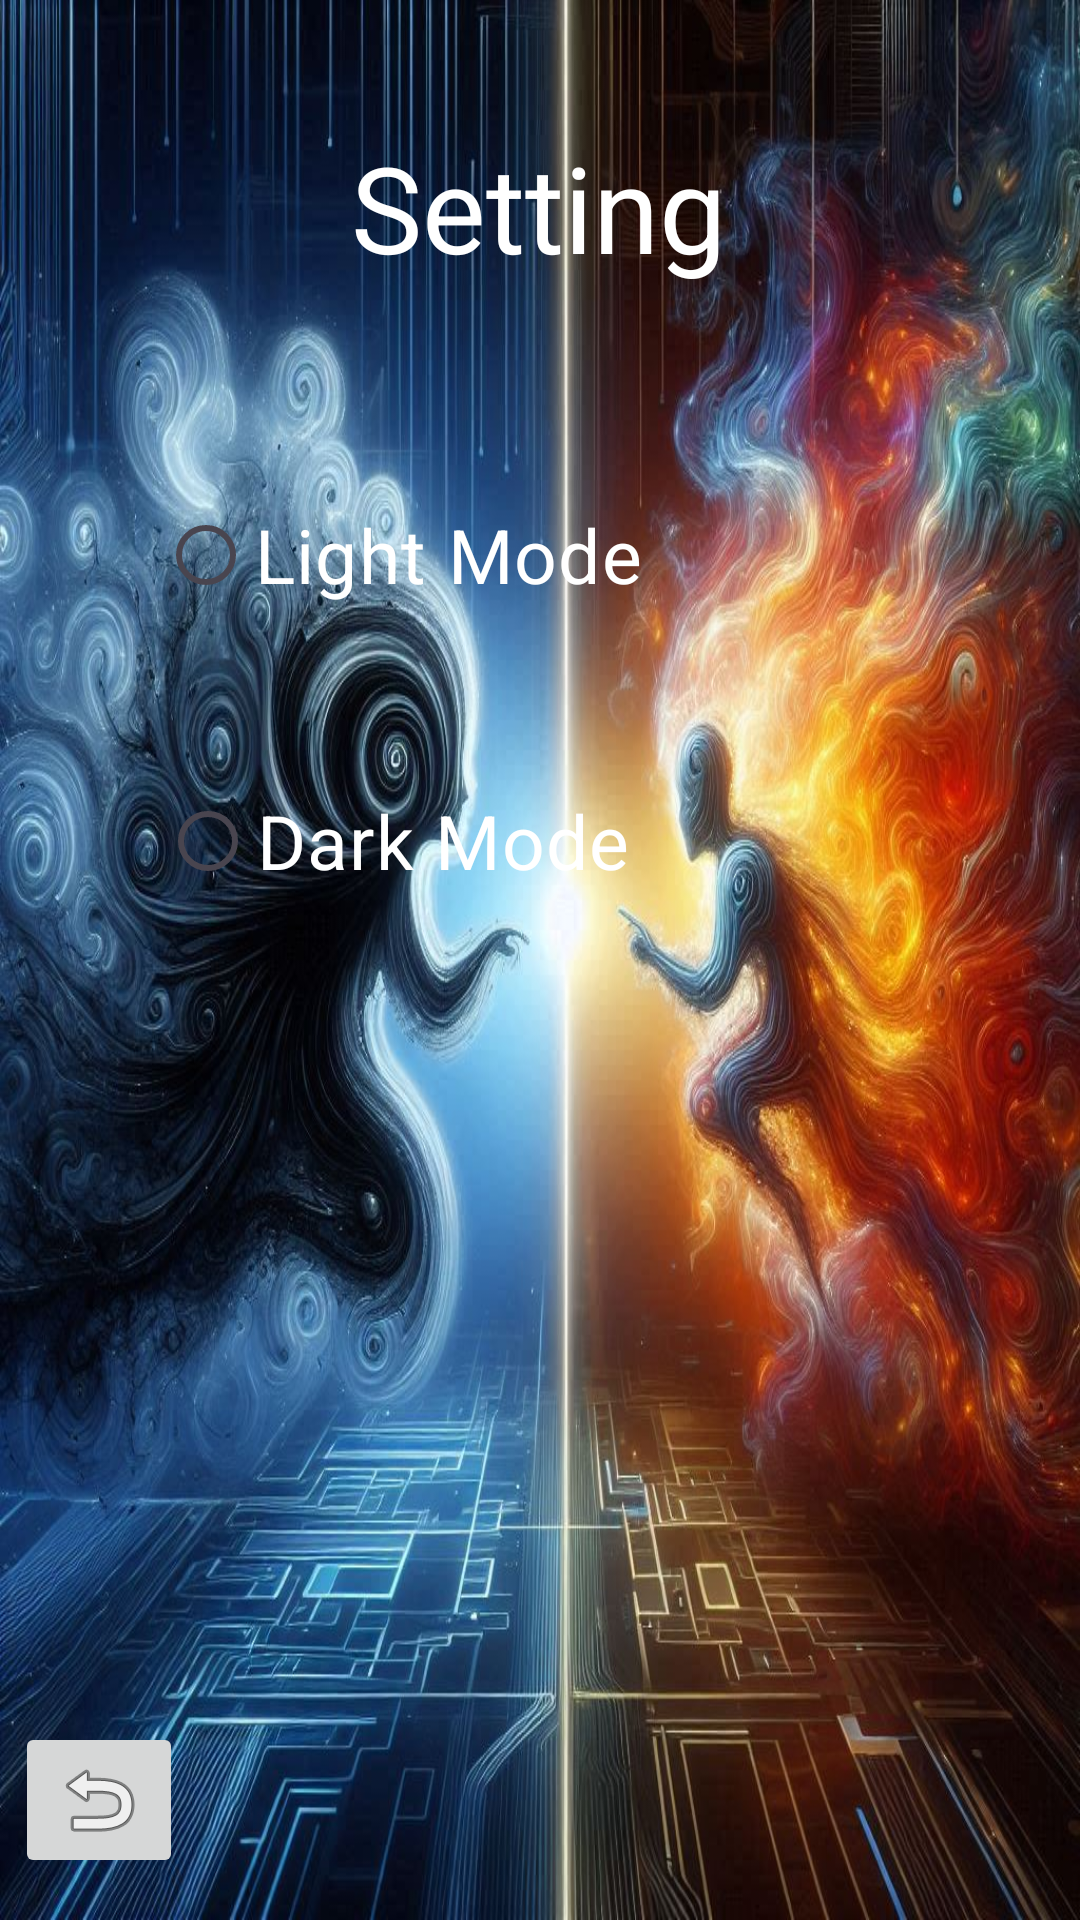

Icon click points for this 1080x1920 phone screenshot, format (x,y):
revert: (99,1800)
